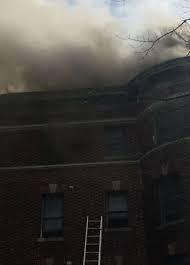smoke: (24, 47, 130, 87), (3, 29, 20, 85)
